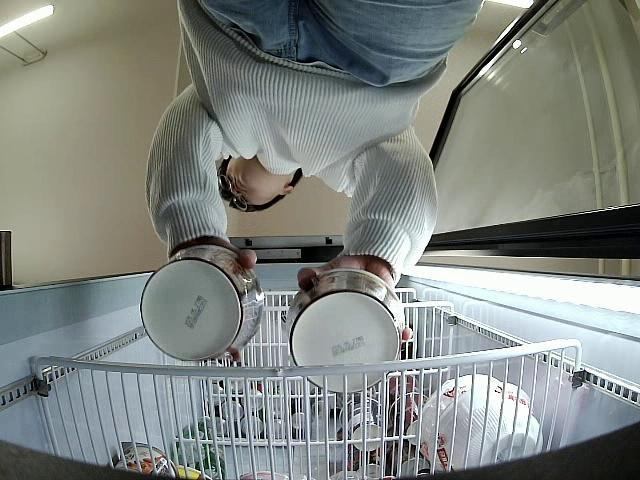05_nuguri_L: (285, 270, 406, 393), (139, 246, 264, 361)
